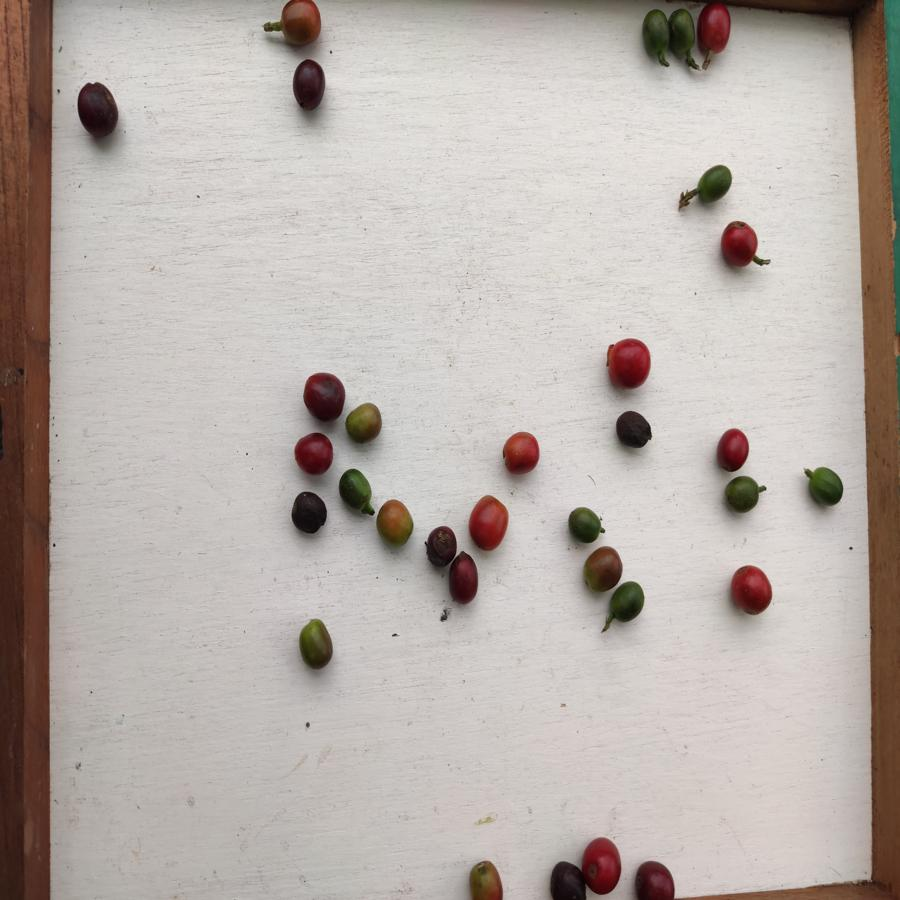Inmaduro: (609, 580, 649, 625), (807, 465, 846, 508), (335, 468, 372, 512), (668, 8, 697, 62), (565, 507, 605, 544), (726, 475, 763, 514), (643, 7, 669, 61), (696, 165, 734, 201)
Maduro: (603, 336, 652, 390), (580, 835, 624, 894), (466, 491, 510, 549), (729, 565, 773, 618), (696, 3, 734, 63), (720, 220, 761, 271), (294, 433, 335, 476), (717, 427, 750, 471)
Pinton: (276, 1, 325, 50), (373, 499, 417, 546), (297, 619, 337, 670), (581, 546, 625, 589), (501, 430, 541, 476), (467, 857, 509, 900), (344, 402, 383, 445)
Sobremaduro: (77, 80, 121, 138), (302, 372, 345, 423), (290, 491, 328, 537), (293, 58, 325, 112), (449, 552, 481, 605), (615, 410, 654, 453), (424, 524, 457, 569)
